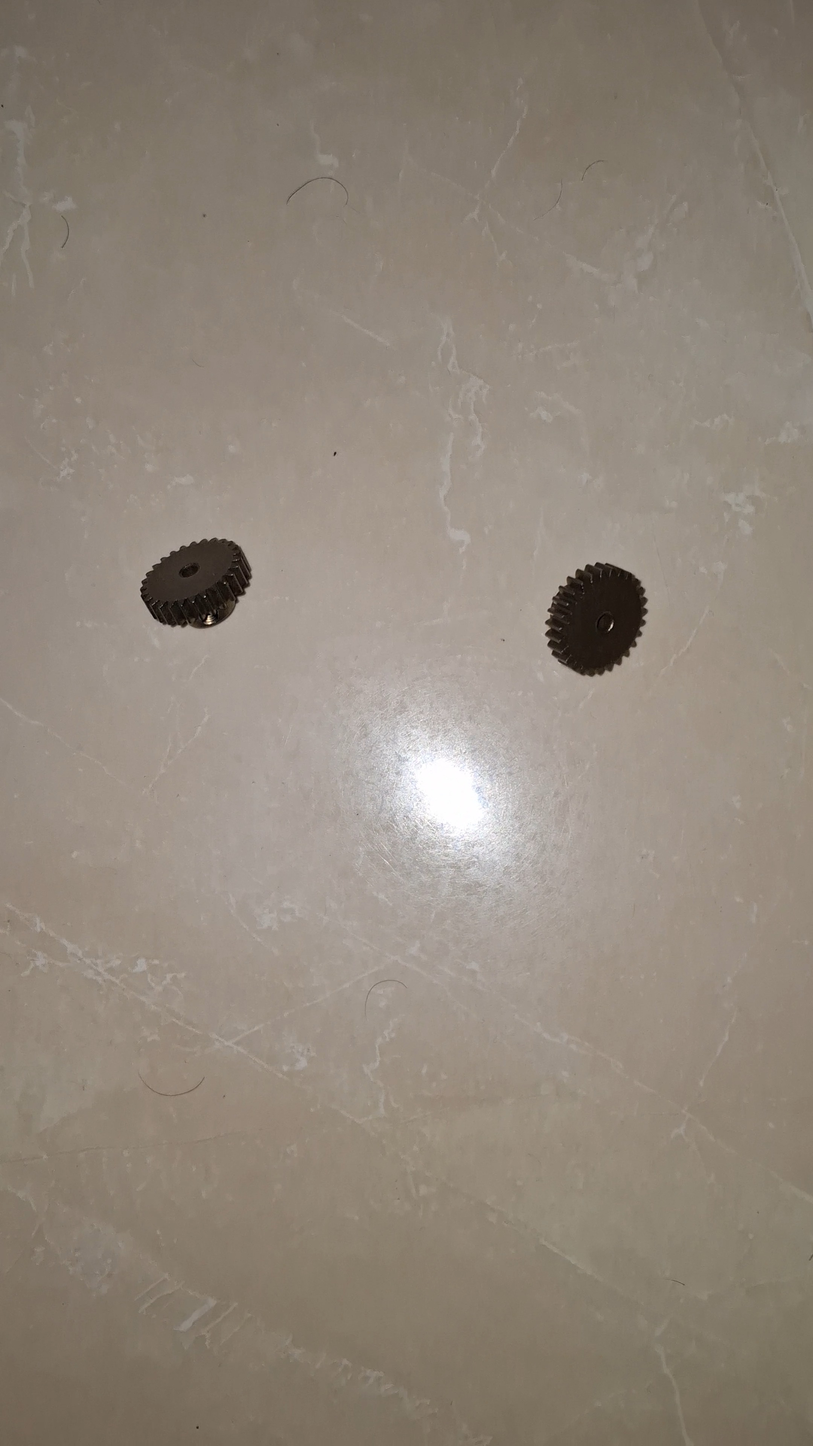spur gear: (547, 563, 646, 675), (141, 539, 251, 627)
